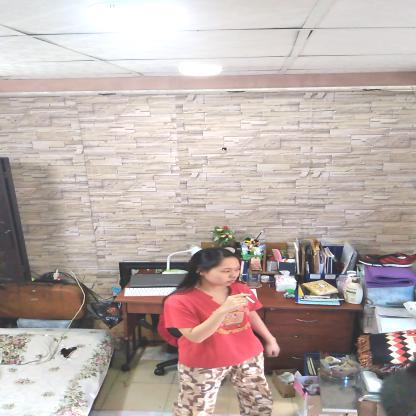cigarette: (244, 296, 256, 304)
person: (164, 246, 275, 416)
